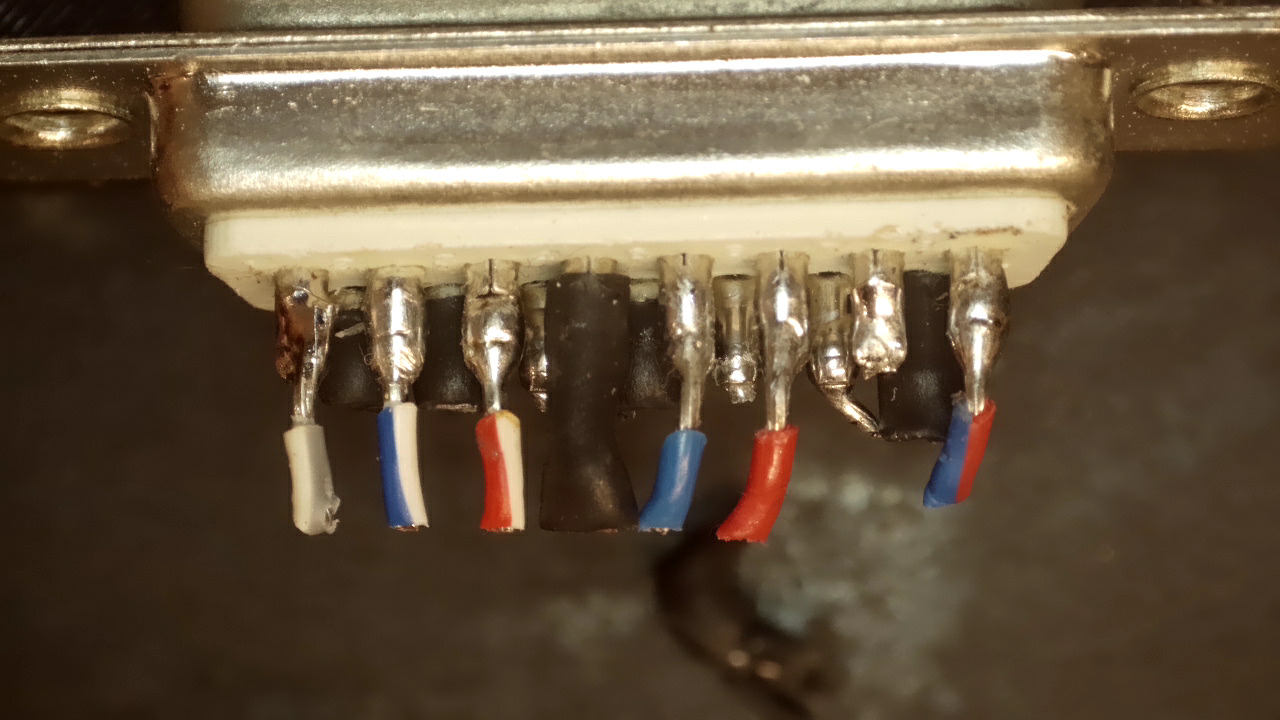bad_weld: (350, 245, 446, 448), (645, 233, 732, 456), (746, 231, 828, 456), (263, 250, 350, 457), (937, 227, 1020, 442), (446, 241, 534, 441), (838, 233, 923, 432)
